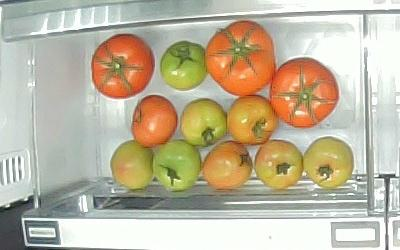tomato: (205, 20, 276, 96), (270, 57, 339, 128), (91, 33, 155, 99), (202, 141, 254, 191), (304, 136, 354, 188), (152, 139, 201, 191), (159, 41, 208, 91), (227, 95, 276, 145), (255, 139, 303, 189), (131, 95, 177, 147), (179, 99, 227, 146), (109, 140, 153, 190)
